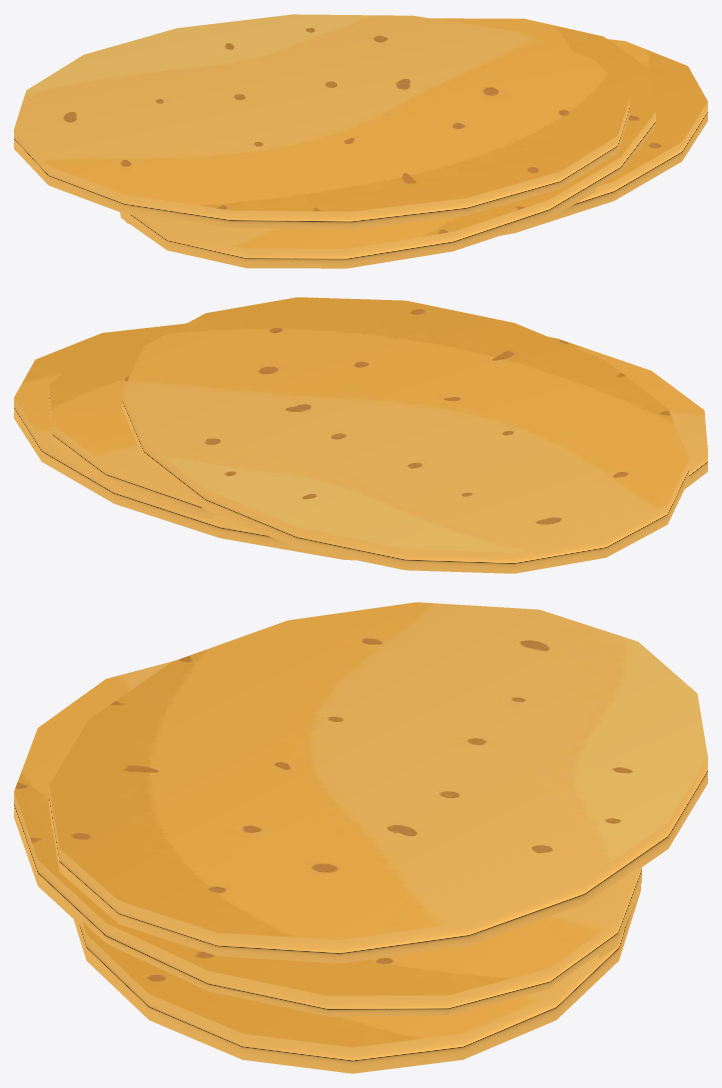
The model's file is 面饼堆.fbx.
3 renders of one model, top to bottom at view 1: azimuth 30°, elevation 25°; view 2: azimuth 150°, elevation 25°; view 3: azimuth 270°, elevation 25°, orthographic. The views are drawn at different scales.
Visible parts, largest first — view 1: 柱体.002, 柱体.001, 柱体; view 2: 柱体.002, 柱体.001, 柱体; view 3: 柱体.002, 柱体.001, 柱体.
Part boxes in pixels (x1,y1,x2,y2): 柱体.002: (14, 14, 629, 229); 柱体.001: (120, 18, 655, 268); 柱体: (125, 39, 707, 235); 柱体.002: (122, 297, 689, 573); 柱体.001: (49, 323, 707, 519); 柱体: (14, 324, 355, 560); 柱体.002: (49, 602, 707, 963); 柱体.001: (14, 660, 641, 1016); 柱体: (73, 885, 640, 1073).
Size of the model in its own units: 219 by 17.86 by 160.
Materials: 1 (1 with a texture image).
